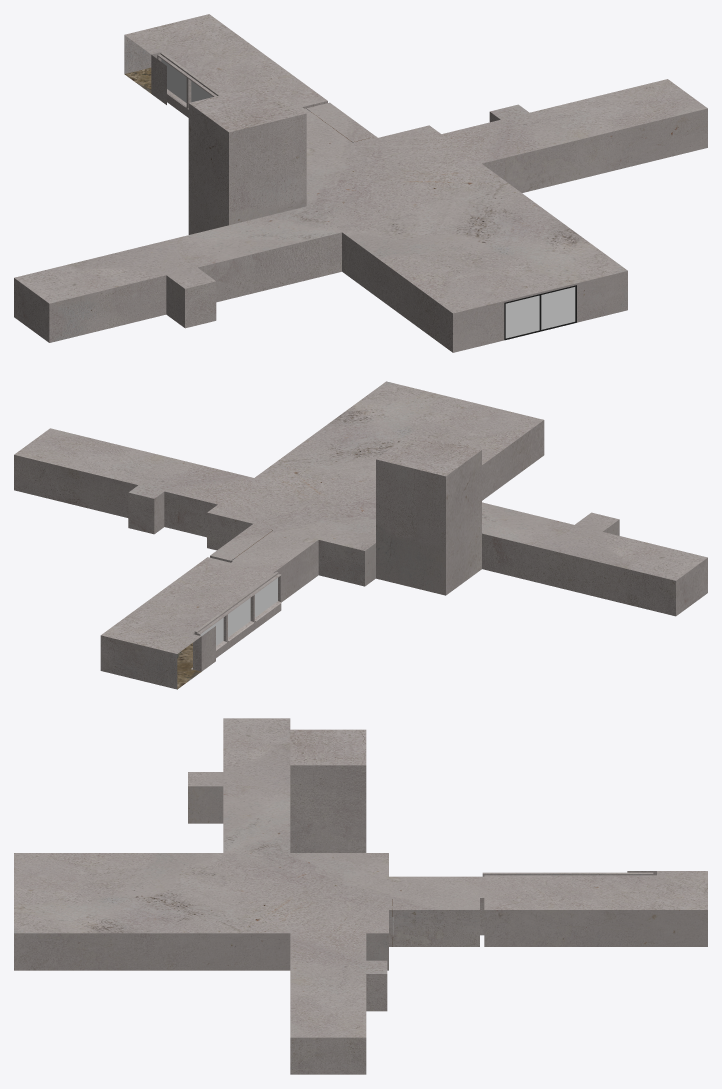
Rendered from XIrumai_06_durys_budetojas_main-level.fbx.
3 renders of one model, top to bottom at view 1: azimuth 30°, elevation 25°; view 2: azimuth 150°, elevation 25°; view 3: azimuth 270°, elevation 25°, orthographic. The views are drawn at different scales.
Parts seen in each view (by area): view 1: Main_koridorius, Lauko_Durys, Lauko_Durys.001; view 2: Main_koridorius; view 3: Main_koridorius.
Boxes of the visible parts, bbox=[...] form: Main_koridorius: bbox=[14, 14, 707, 352]; Lauko_Durys: bbox=[540, 285, 576, 331]; Lauko_Durys.001: bbox=[504, 294, 540, 340]; Main_koridorius: bbox=[14, 381, 707, 689]; Main_koridorius: bbox=[14, 718, 707, 1074].
Bounding box in the file's own units: 78.61 × 14.39 × 72.18.
